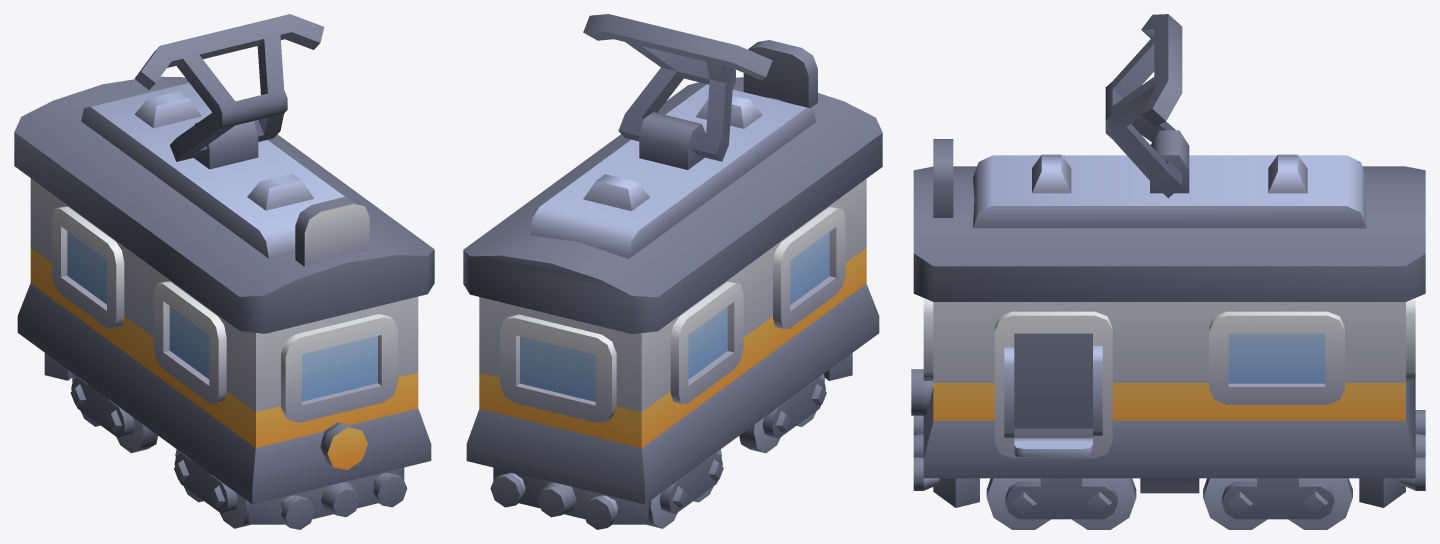
Rendered from kenney-train-train-tram-classic.glb.
3 renders of one model, left to right at view 1: azimuth 30°, elevation 25°; view 2: azimuth 150°, elevation 25°; view 3: azimuth 270°, elevation 25°, orthographic. The views are drawn at different scales.
Visible parts, largest first — view 1: train-tram-classic; view 2: train-tram-classic; view 3: train-tram-classic.
Part boxes in pixels (x1,y1,x2,y2): train-tram-classic: [14, 14, 434, 529]; train-tram-classic: [463, 14, 882, 529]; train-tram-classic: [911, 14, 1425, 529].
Size of the model in its own units: 1.25 by 2.52 by 2.61.
Materials: 1 (1 with a texture image).
